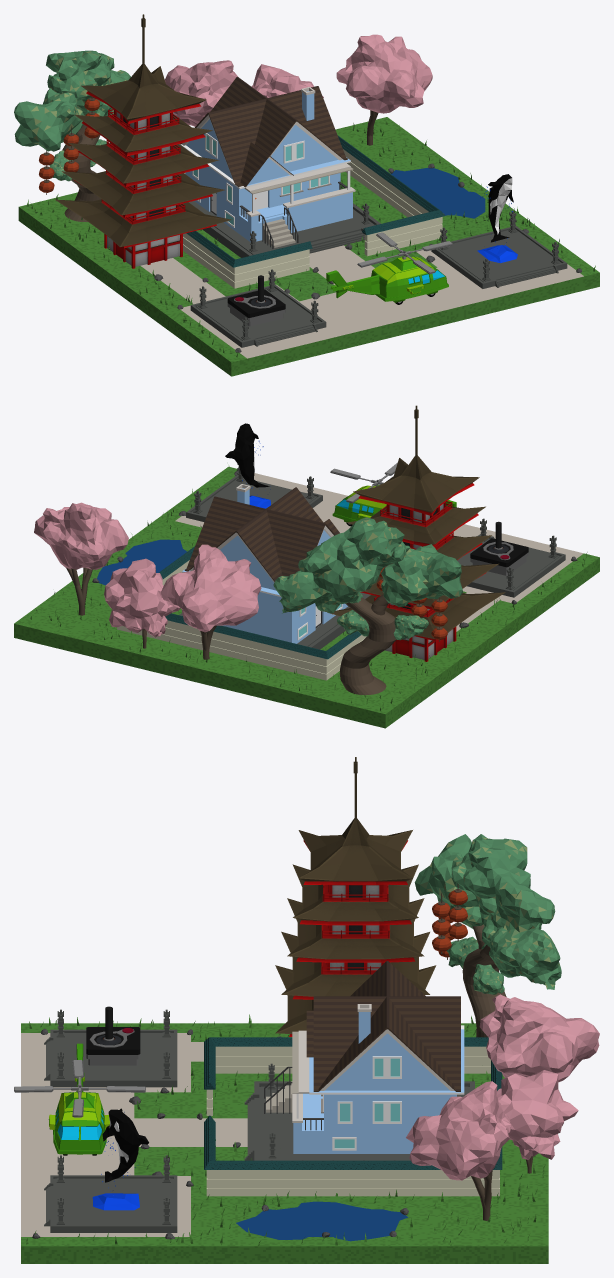
The picture shows the model from 3 angles, top to bottom: view 1: azimuth 30°, elevation 25°; view 2: azimuth 150°, elevation 25°; view 3: azimuth 270°, elevation 25°; orthographic projection. The views are drawn at different scales.
Parts seen in each view (by area): view 1: Cube.005, Cube.1594, VEHICLES_HELICOPTER, OBJRANDOM_JOYSTICK, ANIMAL_ORCA; view 2: Cube.005, Cube.1594, OBJRANDOM_JOYSTICK, VEHICLES_HELICOPTER, ANIMAL_ORCA; view 3: Cube.005, Cube.1594, VEHICLES_HELICOPTER, ANIMAL_ORCA, OBJRANDOM_JOYSTICK.
Boxes of the visible parts, bbox=[...] form: Cube.005: bbox=[14, 14, 599, 376]; Cube.1594: bbox=[179, 76, 355, 248]; VEHICLES_HELICOPTER: bbox=[326, 232, 452, 304]; OBJRANDOM_JOYSTICK: bbox=[227, 275, 285, 326]; ANIMAL_ORCA: bbox=[477, 174, 517, 263]; Cube.005: bbox=[14, 405, 599, 728]; Cube.1594: bbox=[182, 484, 347, 643]; OBJRANDOM_JOYSTICK: bbox=[470, 521, 528, 575]; VEHICLES_HELICOPTER: bbox=[330, 463, 456, 526]; ANIMAL_ORCA: bbox=[225, 423, 270, 508]; Cube.005: bbox=[21, 757, 599, 1263]; Cube.1594: bbox=[264, 961, 464, 1153]; VEHICLES_HELICOPTER: bbox=[14, 1043, 145, 1155]; ANIMAL_ORCA: bbox=[92, 1108, 148, 1210]; OBJRANDOM_JOYSTICK: bbox=[86, 1006, 140, 1065].
Size of the model in its own units: 4528 by 2693 by 4442.
Materials: 43 (5 with a texture image).
